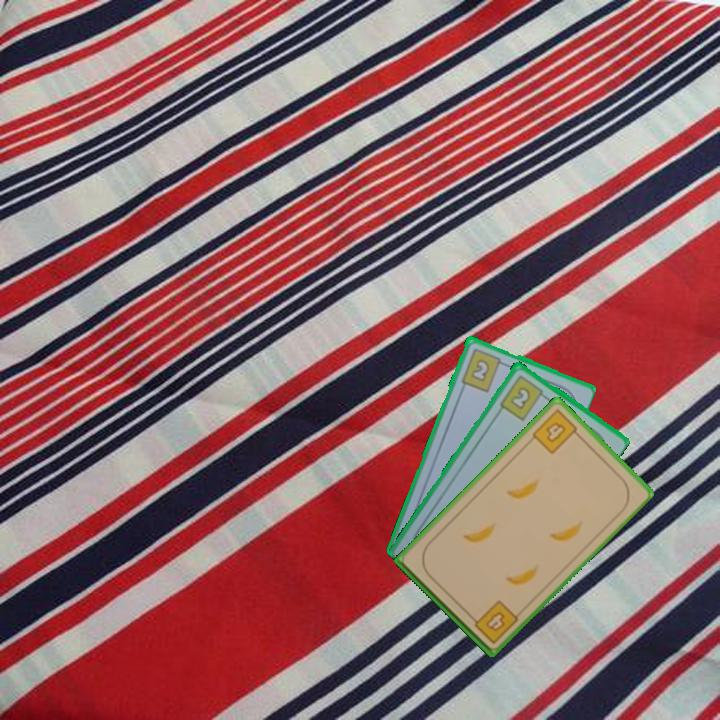2b: (496, 371, 550, 423), (458, 344, 509, 394)
4b: (529, 405, 584, 457), (466, 596, 521, 646)
